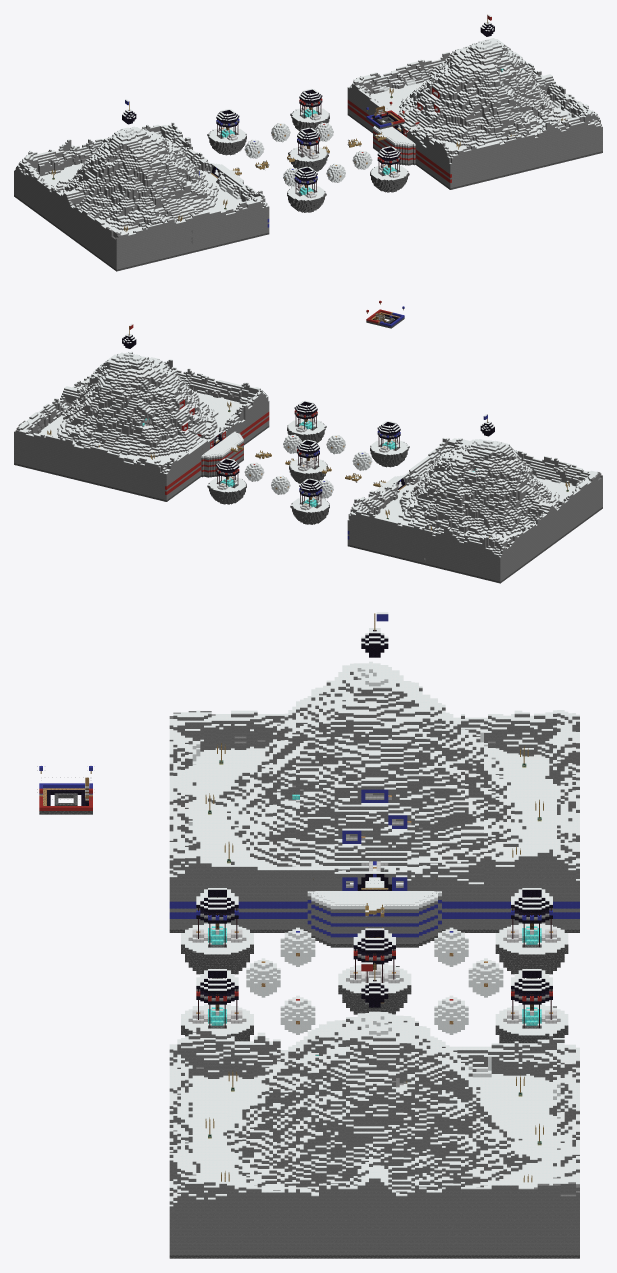
The model's file is minecraft.obj.
3 renders of one model, top to bottom at view 1: azimuth 30°, elevation 25°; view 2: azimuth 150°, elevation 25°; view 3: azimuth 270°, elevation 25°, orthographic. The views are drawn at different scales.
Bounding box in the file's own units: 293 × 70 × 142.
